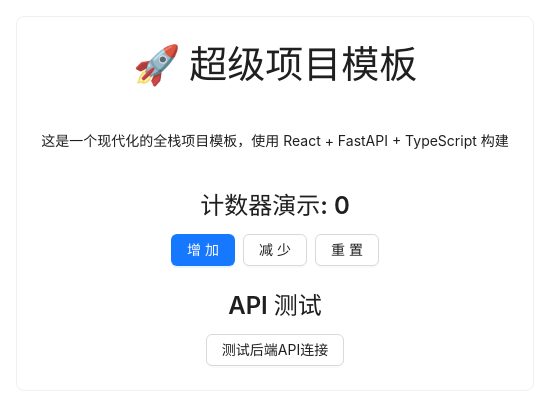
Scenario: App Component › 点击重置按钮应该重置计数器为0
Click the button "增 加": point(203, 250) left=171, top=234, right=235, bottom=266
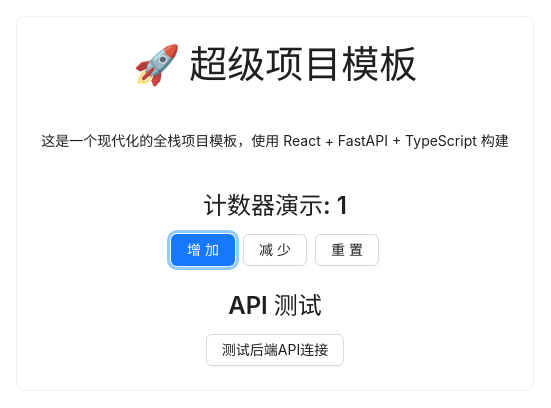
Click the button "增 加": point(203, 250) left=171, top=234, right=235, bottom=266
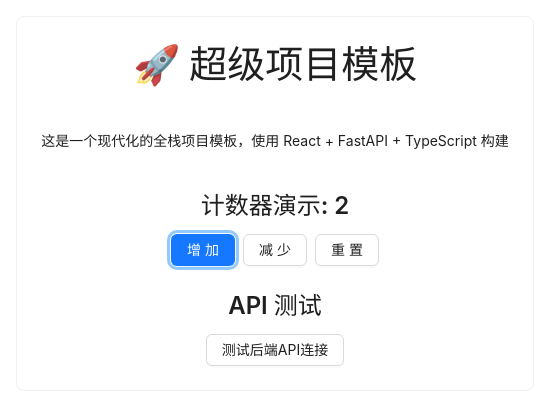
Result: the heading "计数器演示: 2" is shown at left=201, top=191, right=349, bottom=220
Click the button "重 置": point(347, 250) left=315, top=234, right=379, bottom=266
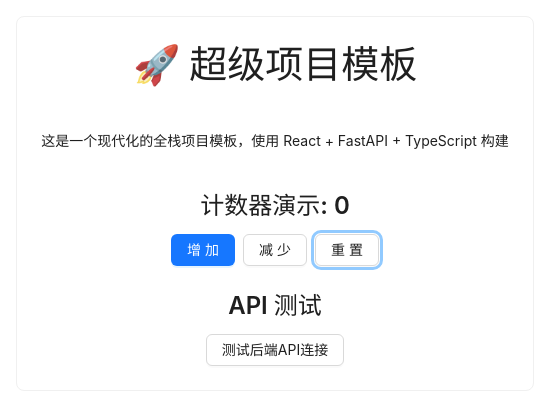
Result: the heading "计数器演示: 0" is shown at left=200, top=191, right=350, bottom=220
